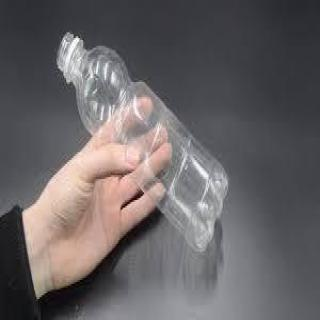Plastic-bottle: (57, 32, 232, 258)
